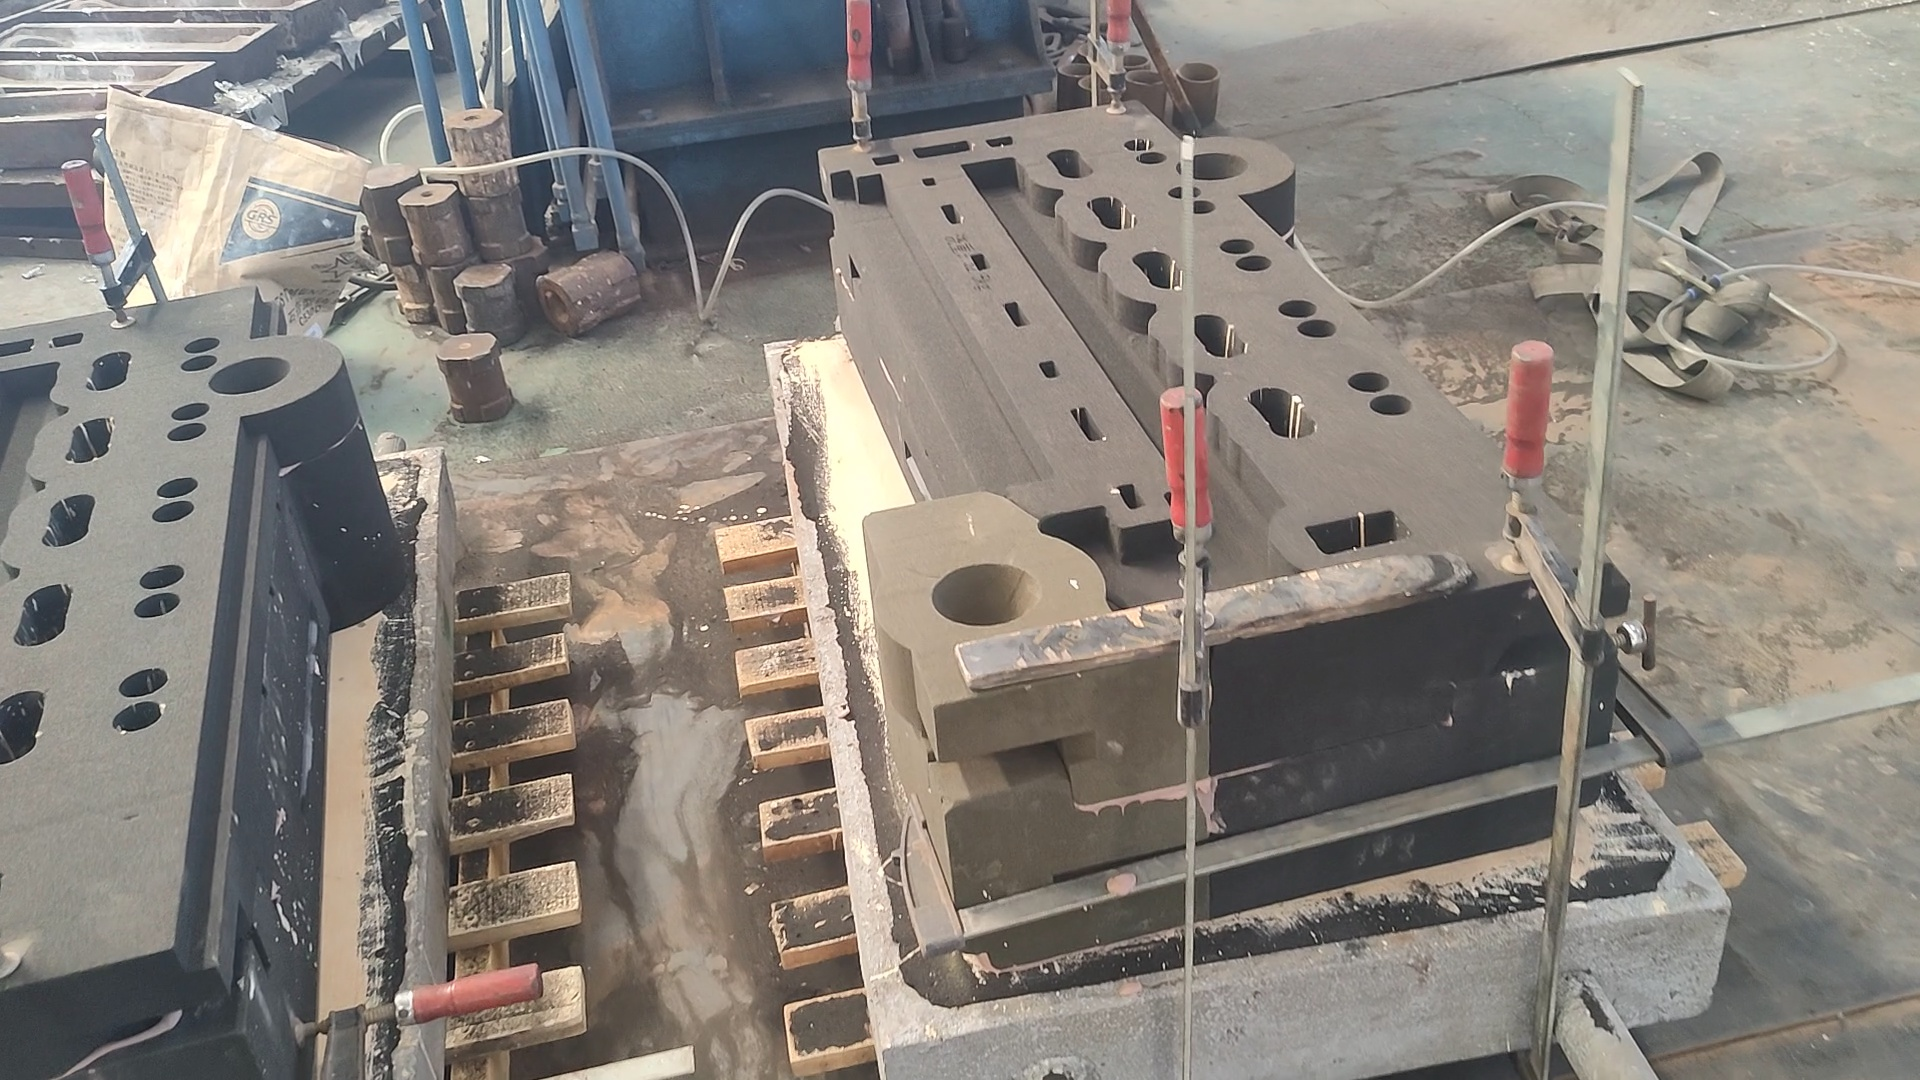pouring hole: (930, 564, 1036, 628), (208, 356, 291, 394), (1178, 152, 1249, 181), (1178, 62, 1218, 82), (1126, 70, 1164, 84), (1112, 53, 1149, 67), (1080, 75, 1116, 90), (1059, 62, 1093, 76), (1080, 42, 1110, 55)
